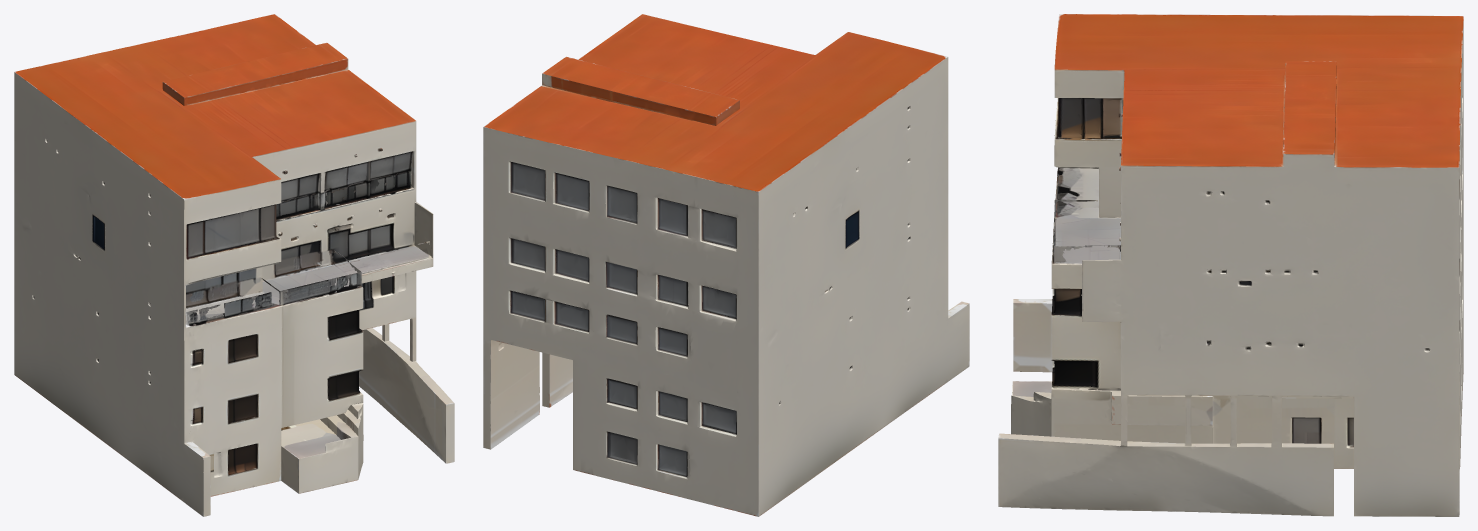
The model's file is modern_multi-story_residential_building..glb.
3 views of the same model, side by side, from view 1: azimuth 30°, elevation 25°; view 2: azimuth 150°, elevation 25°; view 3: azimuth 270°, elevation 25° (orthographic). The views are drawn at different scales.
Visible parts, largest first — view 1: Object_3, Object_4, Object_2; view 2: Object_3, Object_4, Object_2; view 3: Object_3, Object_4, Object_2.
Boxes of the visible parts, x1,y1,x2,y2 form: Object_3: [14, 14, 454, 516]; Object_4: [29, 28, 432, 516]; Object_2: [17, 34, 432, 490]; Object_3: [483, 14, 969, 516]; Object_4: [483, 46, 925, 515]; Object_2: [487, 46, 965, 493]; Object_3: [998, 14, 1463, 516]; Object_4: [1013, 17, 1463, 447]; Object_2: [1002, 19, 1463, 511].
Size of the model in its own units: 1.45 by 1.64 by 1.91.
1 material, 1 textured.
